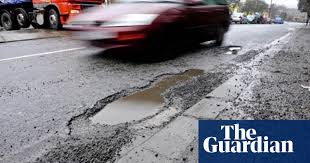pothole: (91, 68, 212, 112), (55, 114, 143, 163)
